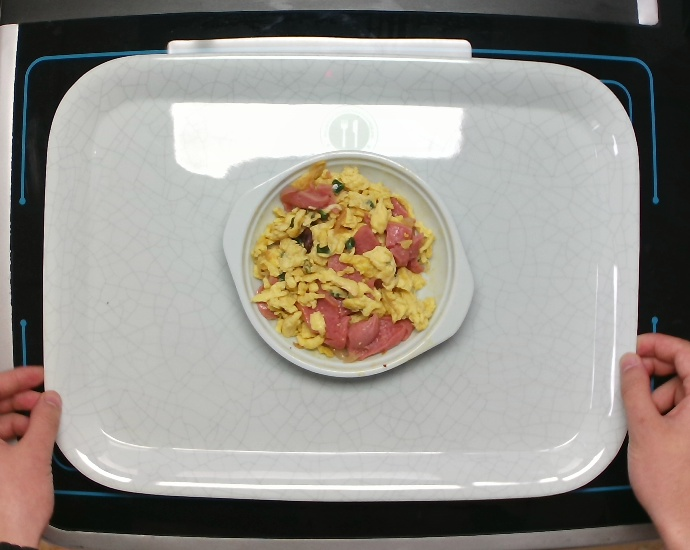JYsf-Shuang_Er_Pan: (215, 143, 491, 378)
